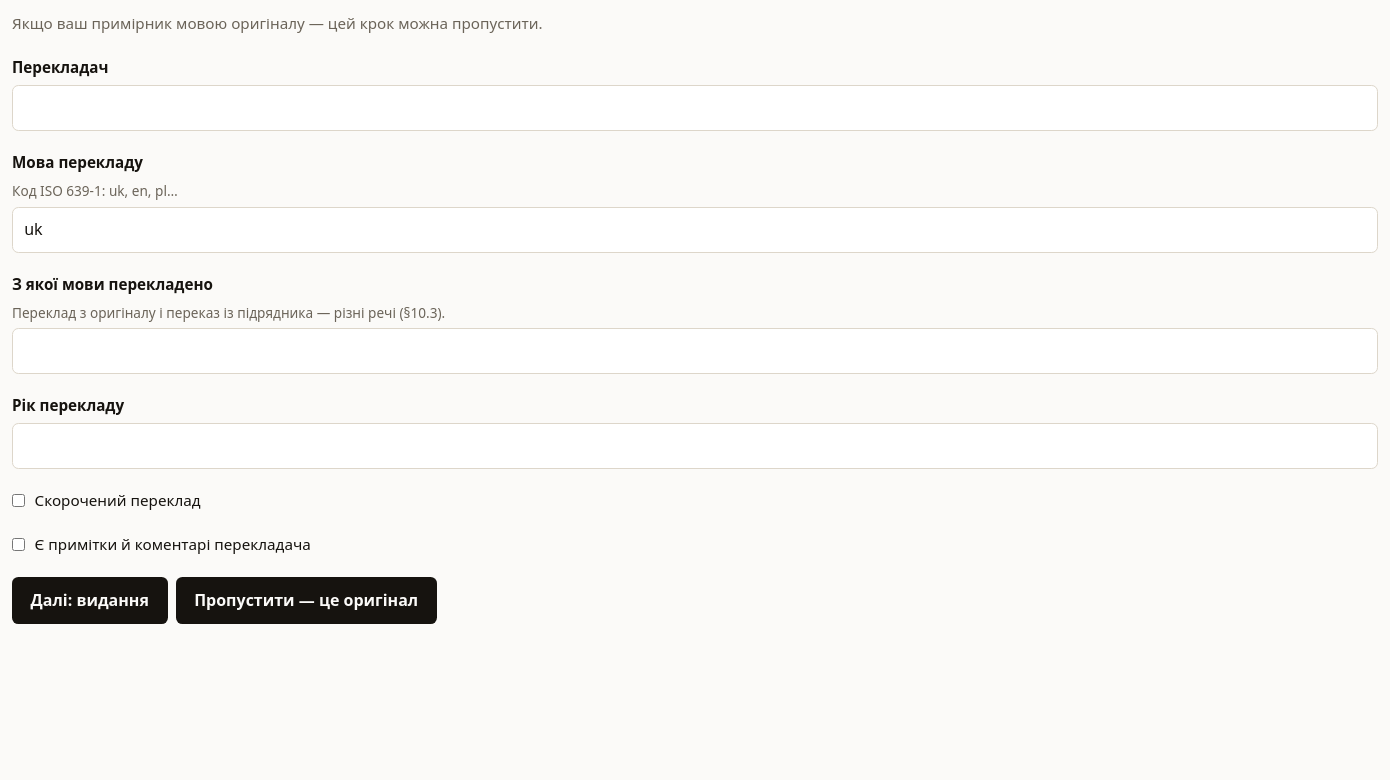
shows shared validation errors without sending an invalid request
Click the button "Далі: видання" at (90, 600), box [12,577,168,624]
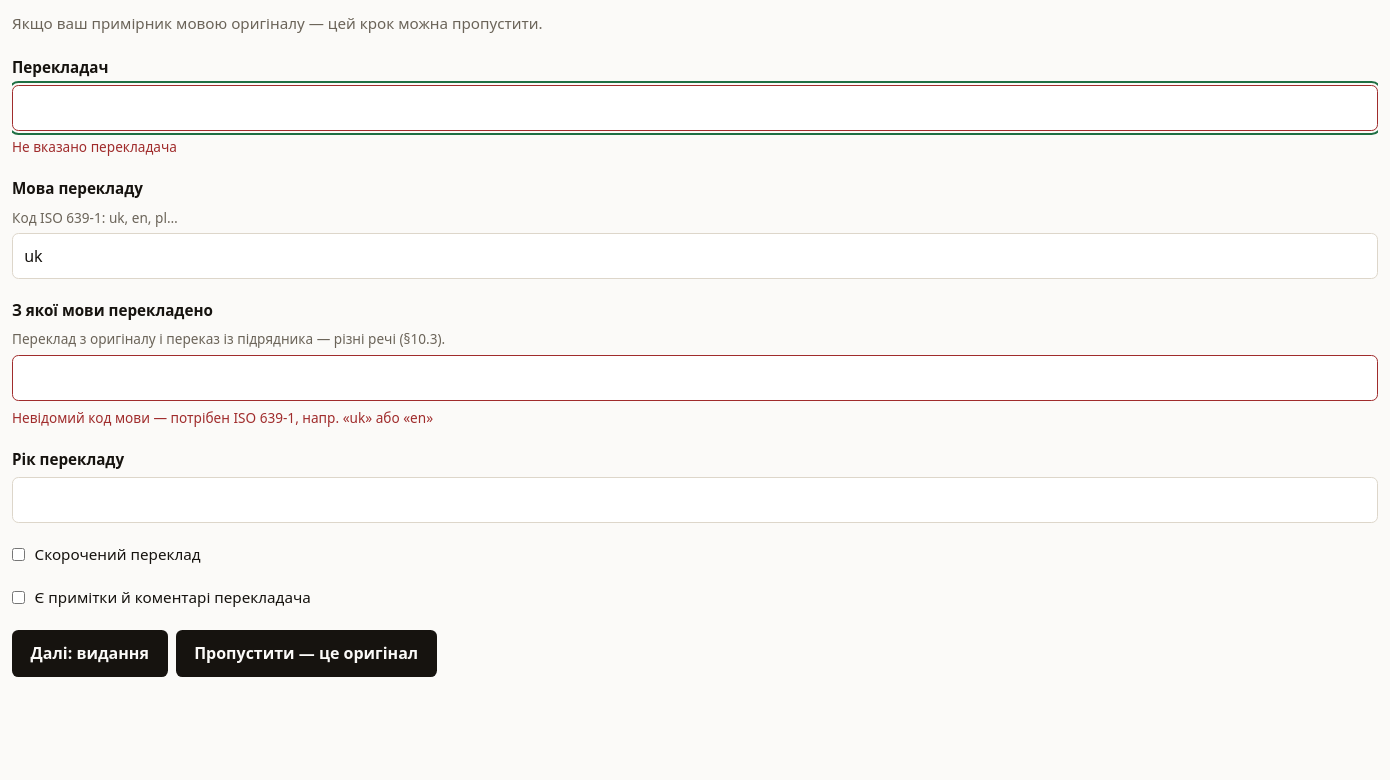
Expected: the text "Не вказано перекладача" is shown, [12,137,177,156]
